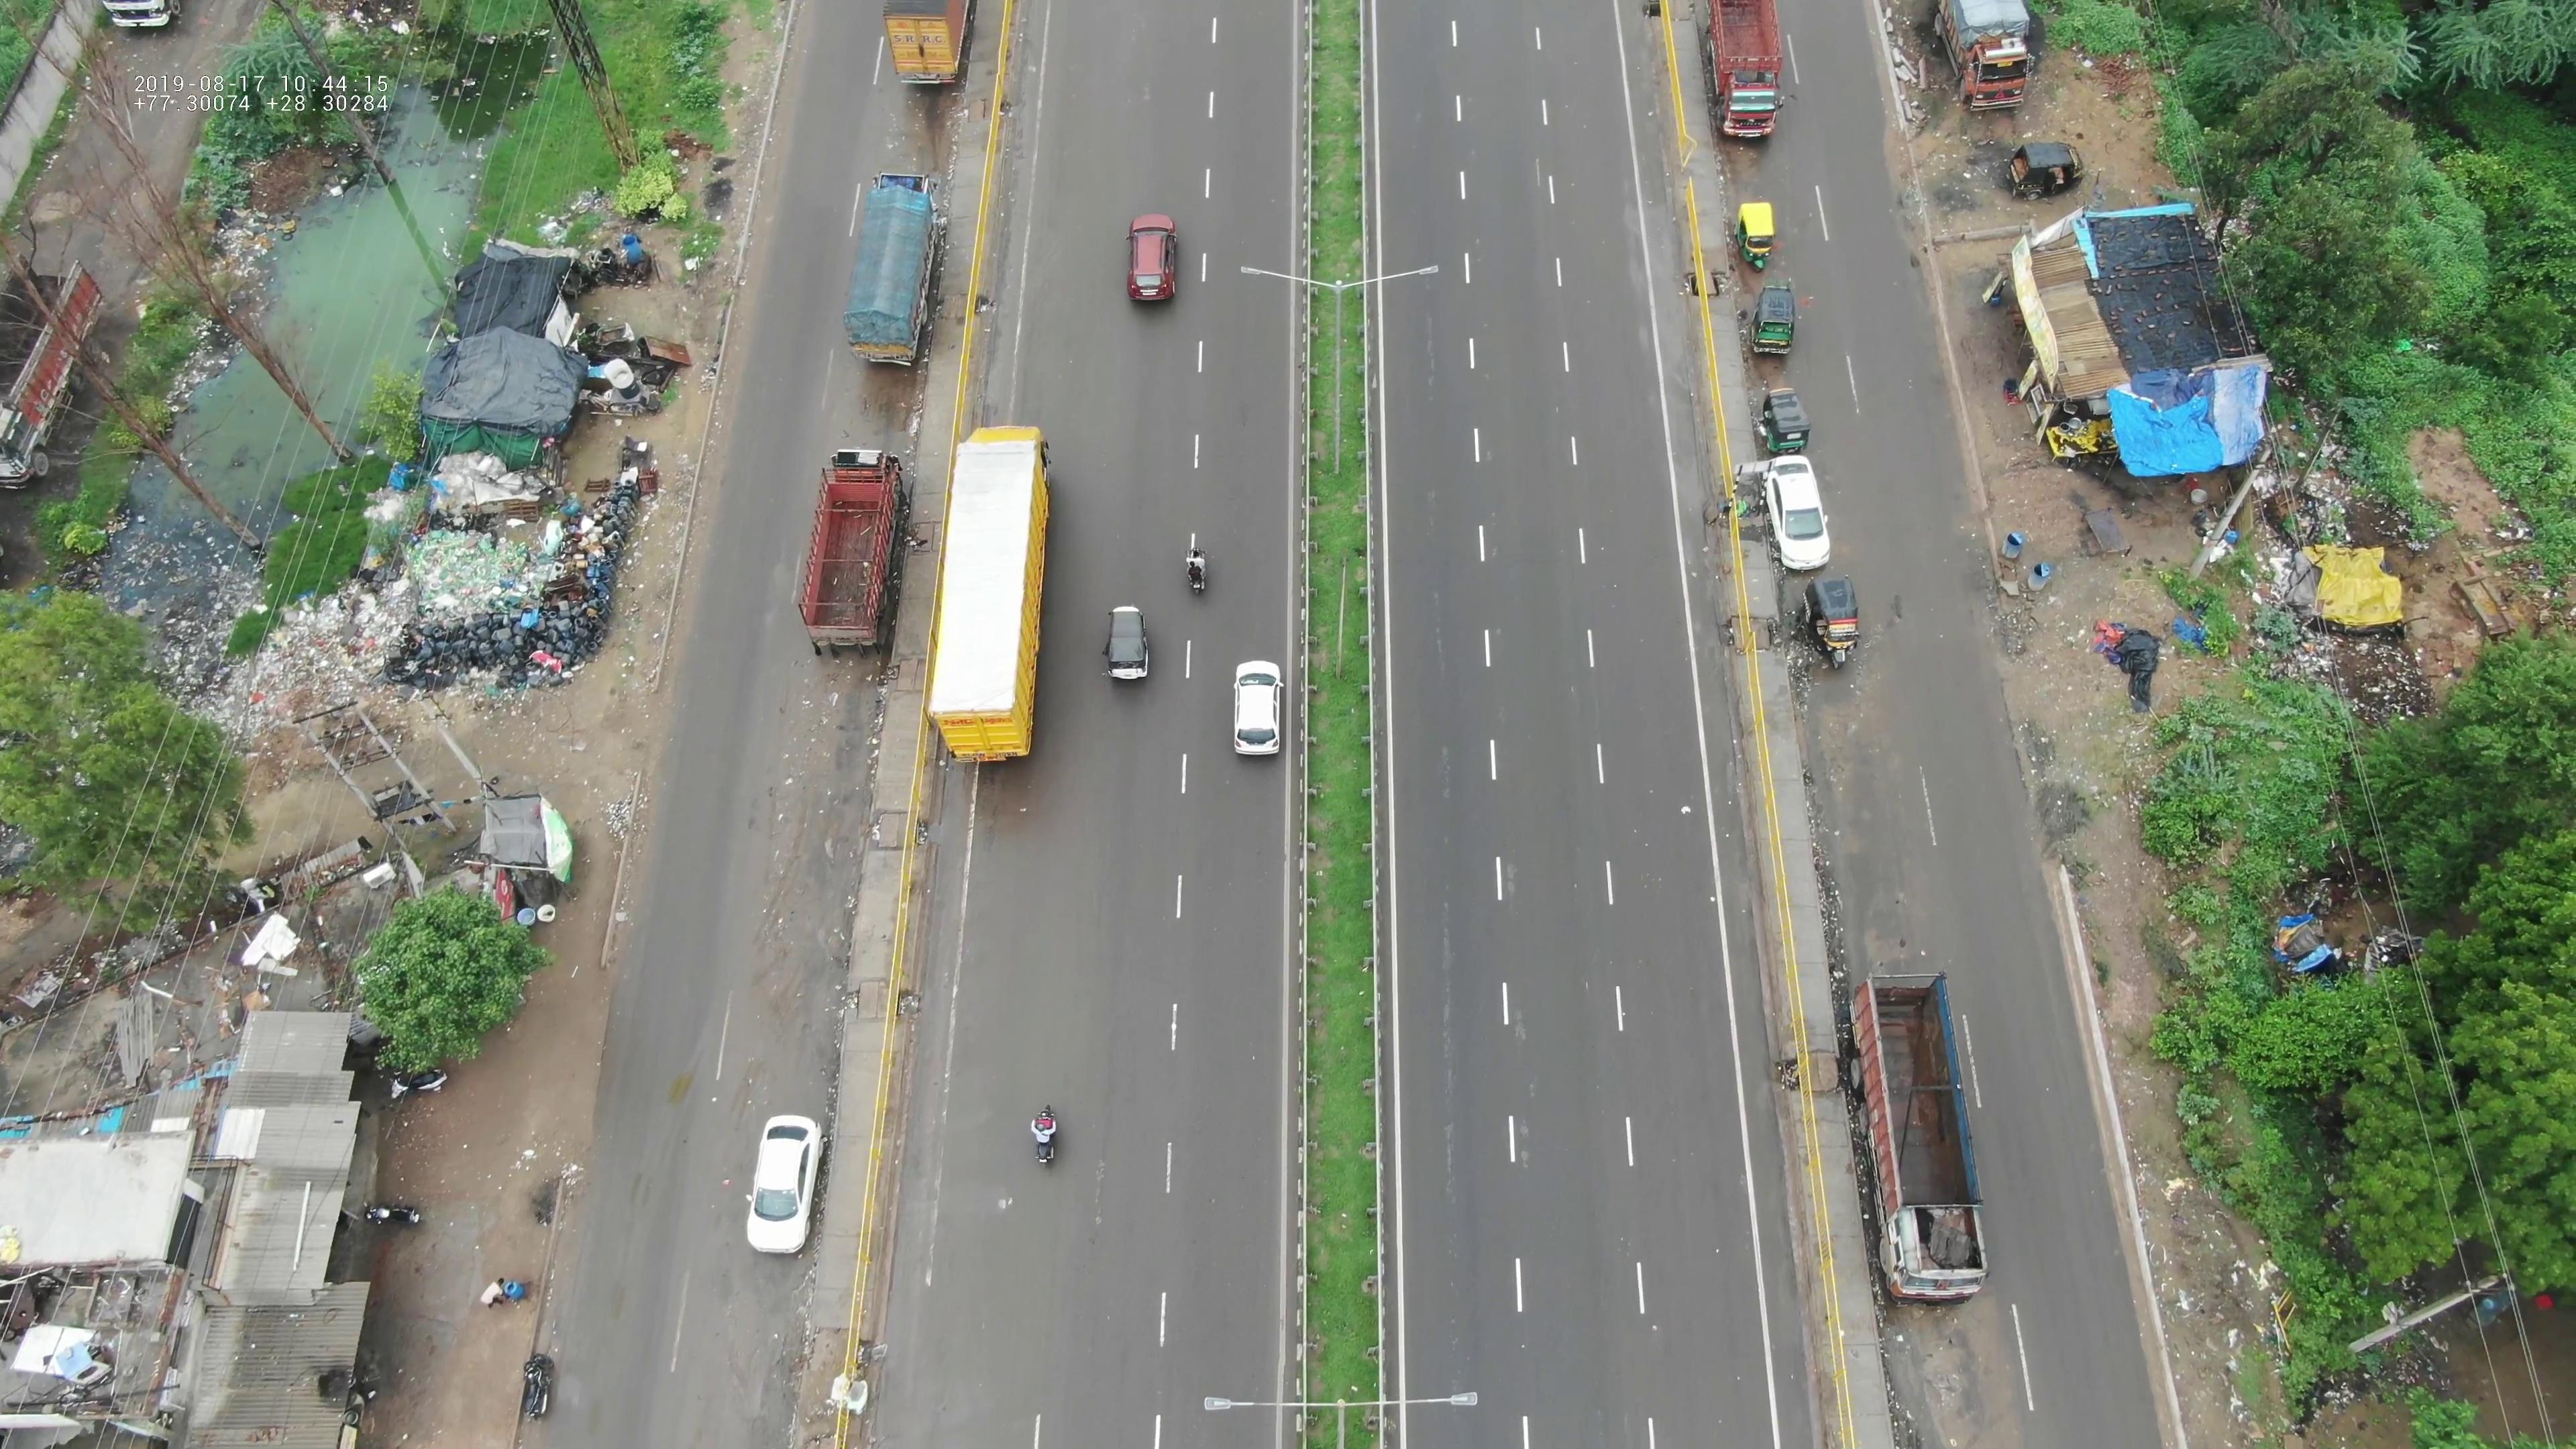Muddy_road: (748, 791, 828, 1100)
Potholes: (1426, 961, 1468, 1177)
